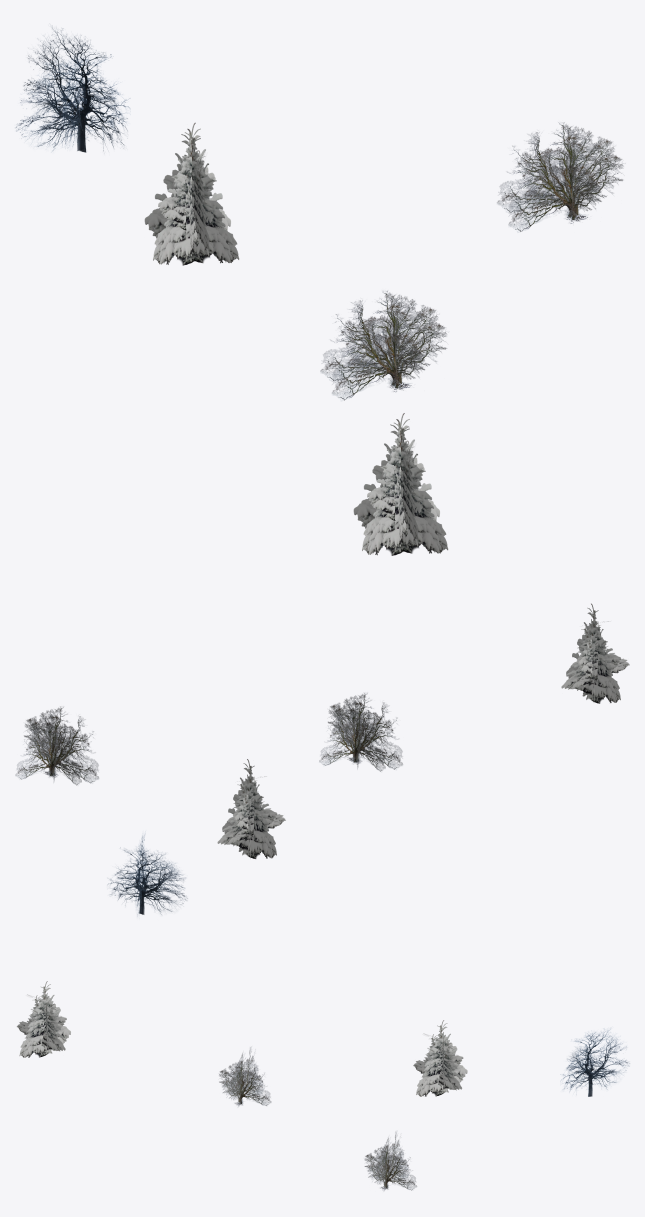
Rendered from trees.glb.
The picture shows the model from 3 angles, top to bottom: view 1: azimuth 30°, elevation 25°; view 2: azimuth 150°, elevation 25°; view 3: azimuth 270°, elevation 25°; orthographic projection. The views are drawn at different scales.
Visible parts, largest first — view 1: trees; view 2: trees; view 3: trees.
Part boxes in pixels (x1=…): trees: x1=15, y1=27, x2=625, y2=555; trees: x1=15, y1=603, x2=629, y2=914; trees: x1=17, y1=981, x2=629, y2=1190.
Size of the model in its own units: 403 by 102 by 678.
3 materials, 3 textured.
